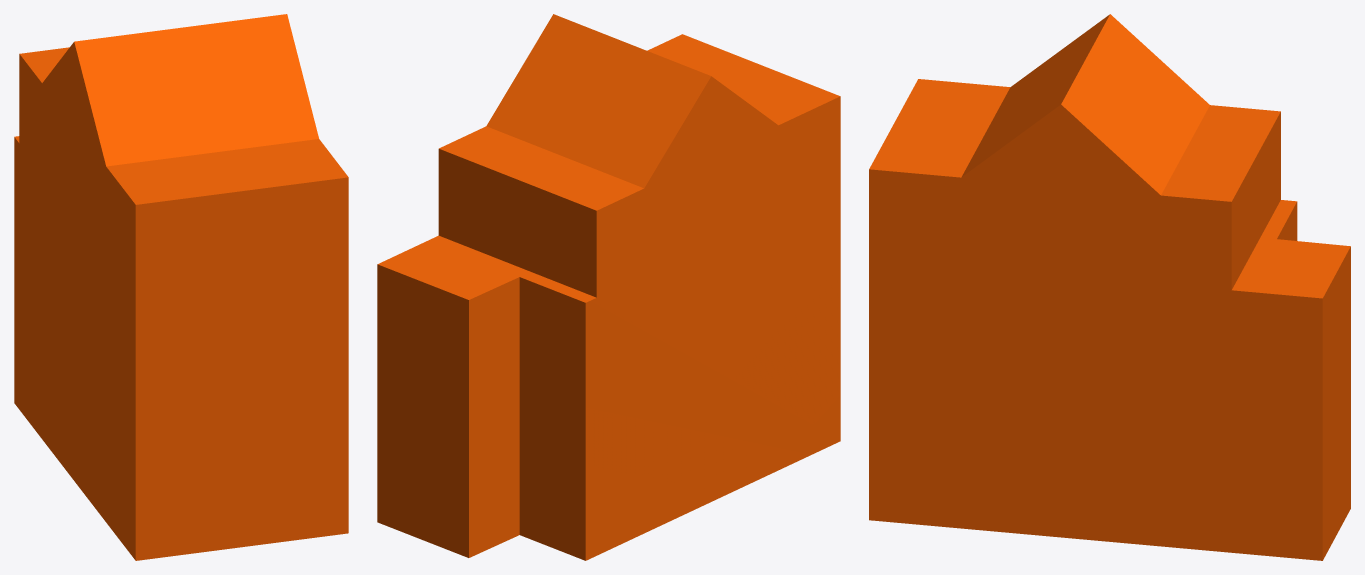
The model's file is DEHB01ALn0001NLf.dae.
3 views of the same model, side by side, from view 1: azimuth 30°, elevation 25°; view 2: azimuth 150°, elevation 25°; view 3: azimuth 270°, elevation 25° (orthographic). The views are drawn at different scales.
Bounding box in the file's own units: 8.9 × 13.82 × 13.71.
